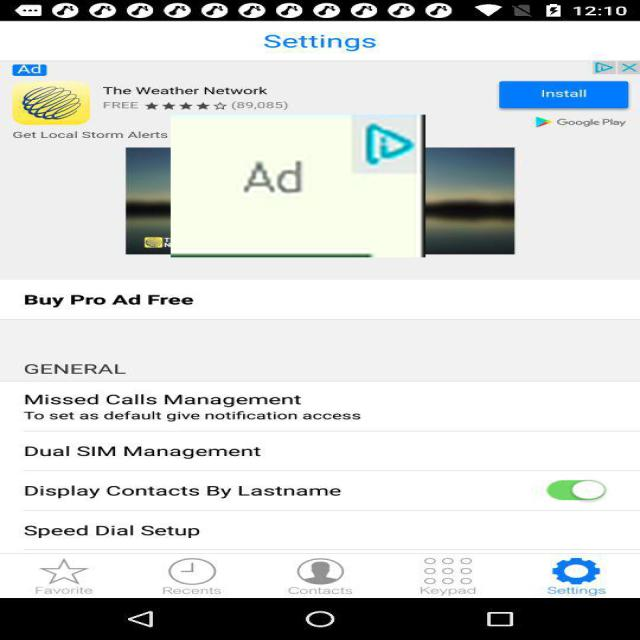sneaking: (170, 115, 426, 257)
